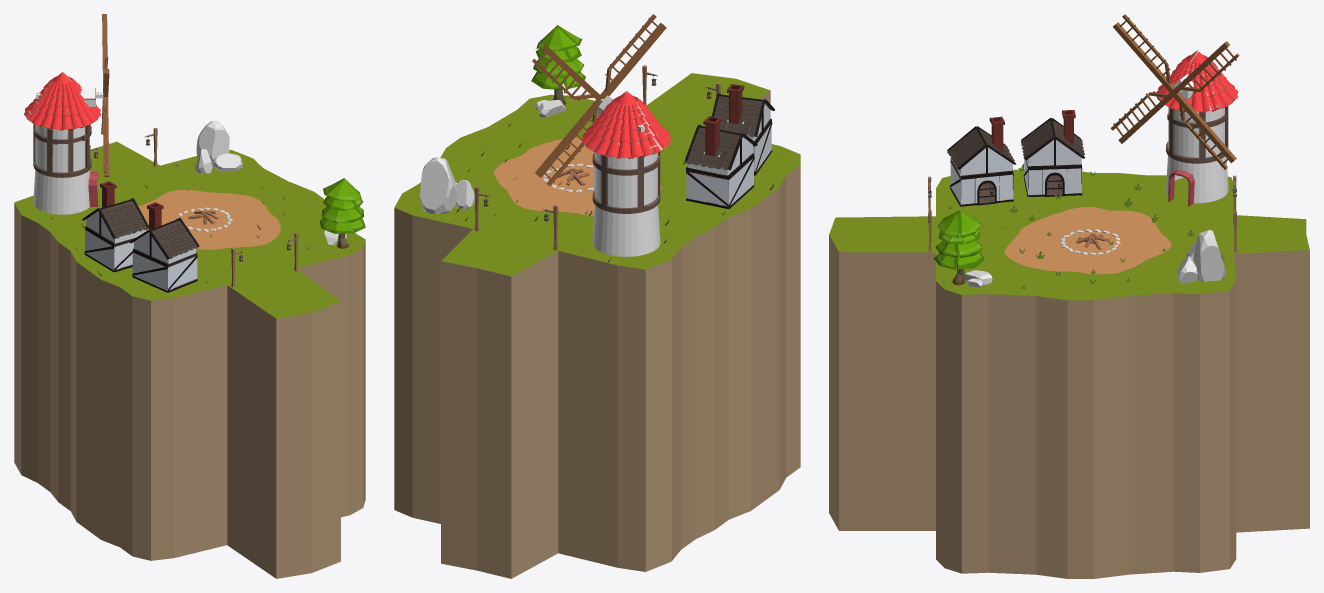
File: Map 1_3.fbx
3 views of the same model, side by side, from view 1: azimuth 30°, elevation 25°; view 2: azimuth 150°, elevation 25°; view 3: azimuth 270°, elevation 25° (orthographic). The views are drawn at different scales.
Parts seen in each view (by area): view 1: Plane, Plane.004, windmill, house, house.001, windmill.002, Circle.049, Rock.002, windmill.004, Rock.004; view 2: Plane, Plane.004, windmill, house.001, windmill.002, house, windmill.005, Circle.049, Rock.002, windmill.004; view 3: Plane, Plane.004, house, house.001, windmill, Circle.049, windmill.005, windmill.002, windmill.004, Rock.002.
Boxes of the visible parts, <box> form: Plane: <box>14,203,365,578</box>; Plane.004: <box>14,141,365,318</box>; windmill: <box>33,124,91,214</box>; house: <box>130,202,199,292</box>; house.001: <box>82,181,148,272</box>; windmill.002: <box>24,72,100,130</box>; Circle.049: <box>319,178,365,248</box>; Rock.002: <box>196,121,229,167</box>; windmill.004: <box>102,14,109,176</box>; Rock.004: <box>213,153,242,171</box>; Plane: <box>394,90,800,578</box>; Plane.004: <box>394,73,800,276</box>; windmill: <box>592,151,660,256</box>; house.001: <box>684,116,757,208</box>; windmill.002: <box>581,91,671,158</box>; house: <box>712,84,774,175</box>; windmill.005: <box>535,14,666,186</box>; Circle.049: <box>531,25,585,105</box>; Rock.002: <box>420,157,457,213</box>; windmill.004: <box>532,45,603,101</box>; Plane: <box>829,235,1309,578</box>; Plane.004: <box>829,169,1309,300</box>; house: <box>947,116,1016,206</box>; house.001: <box>1021,110,1085,196</box>; windmill: <box>1166,106,1228,203</box>; Circle.049: <box>933,210,984,285</box>; windmill.005: <box>1113,14,1236,169</box>; windmill.002: <box>1156,50,1238,112</box>; windmill.004: <box>1110,41,1239,143</box>; Rock.002: <box>1193,230,1226,281</box>.
Bounding box in the file's own units: 10980 × 18156 × 17066.
Materials: 39 (18 with a texture image).
